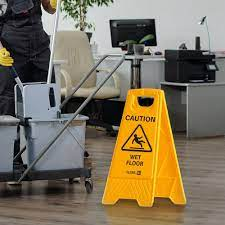wet caution sign: (108, 90, 188, 219)
